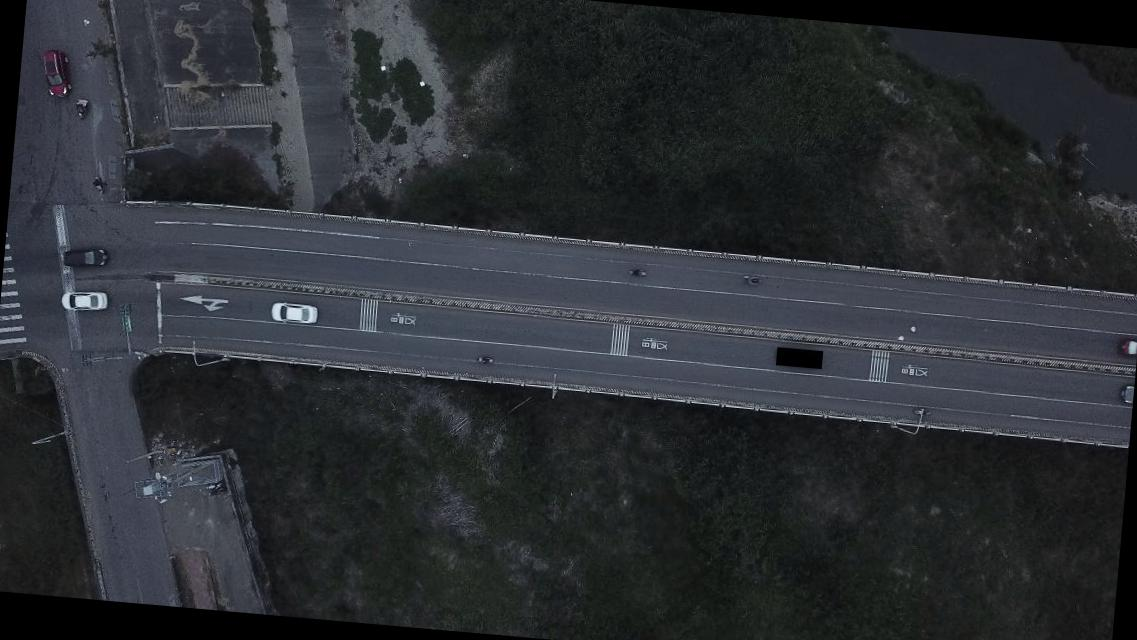vehicle: (38, 49, 75, 99), (269, 299, 318, 326), (61, 288, 108, 314), (62, 244, 108, 268), (1116, 338, 1136, 358)
